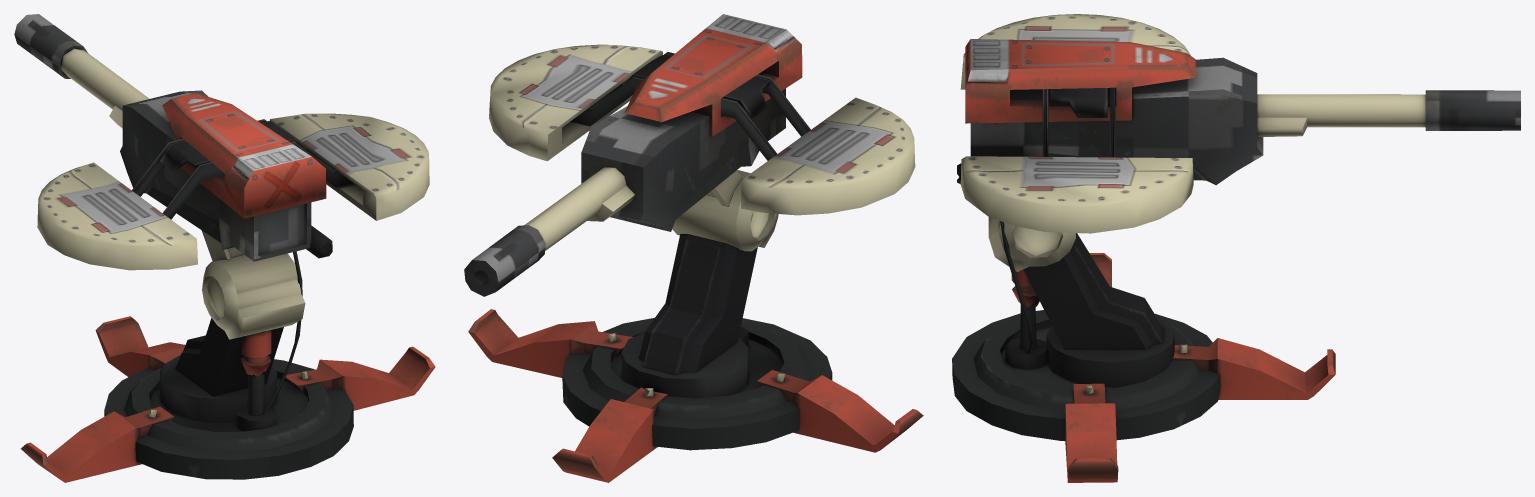
File: turret.glb
3 renders of one model, left to right at view 1: azimuth 30°, elevation 25°; view 2: azimuth 150°, elevation 25°; view 3: azimuth 270°, elevation 25°, orthographic. The views are drawn at different scales.
Parts seen in each view (by area): view 1: Gun, Base; view 2: Gun, Base; view 3: Gun, Base.
Part boxes in pixels (x1,y1,x2,y2): Gun: [14, 14, 429, 270]; Base: [20, 251, 435, 482]; Gun: [464, 14, 915, 296]; Base: [468, 170, 923, 482]; Gun: [957, 14, 1520, 233]; Base: [952, 217, 1335, 482].
Bounding box in the file's own units: 1.88 × 1.4 × 2.15.
1 material, 1 textured.
